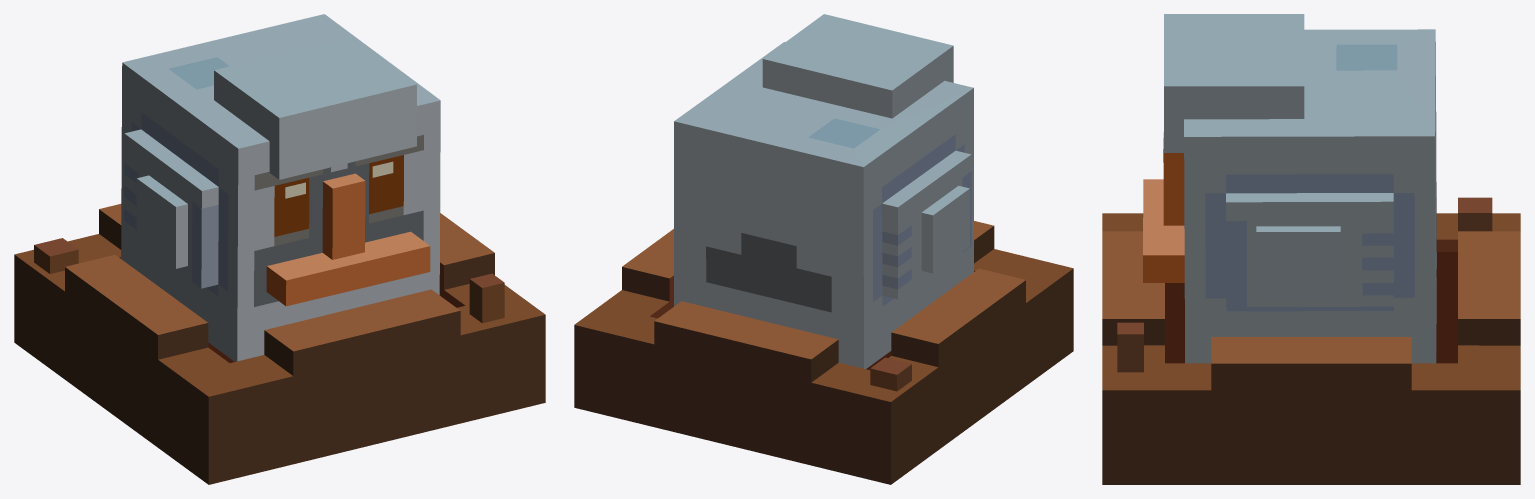
File: Tower_Duck_LVL5.fbx
The picture shows the model from 3 angles, left to right: view 1: azimuth 30°, elevation 25°; view 2: azimuth 150°, elevation 25°; view 3: azimuth 270°, elevation 25°; orthographic projection. The views are drawn at different scales.
Parts seen in each view (by area): view 1: Base, Duck, Hair, wingr1; view 2: Base, Duck, Hair, wingr1; view 3: Base, Duck, Hair, wingl1.
Part boxes in pixels (bbox=[...]): Base: bbox=[14, 204, 545, 484]; Duck: bbox=[121, 14, 440, 361]; Hair: bbox=[214, 36, 416, 179]; wingr1: bbox=[136, 175, 187, 268]; Base: bbox=[574, 221, 1073, 484]; Duck: bbox=[674, 42, 973, 369]; Hair: bbox=[762, 14, 953, 118]; wingr1: bbox=[921, 185, 969, 273]; Base: bbox=[1102, 197, 1520, 484]; Duck: bbox=[1143, 29, 1436, 363]; Hair: bbox=[1164, 14, 1304, 152]; wingl1: bbox=[1256, 226, 1340, 298].
Size of the model in its own units: 100 by 91.28 by 100.
